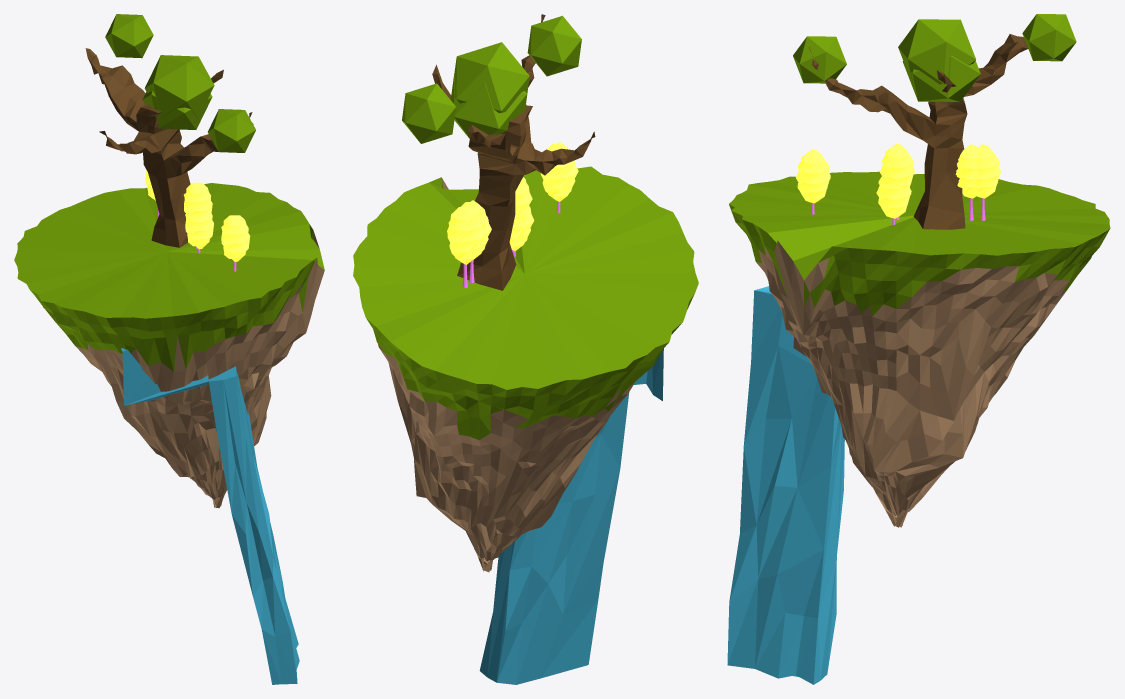
File: scence.fbx
3 views of the same model, side by side, from view 1: azimuth 30°, elevation 25°; view 2: azimuth 150°, elevation 25°; view 3: azimuth 270°, elevation 25° (orthographic). The views are drawn at different scales.
Visible parts, largest first — view 1: Cone, Xascata, Cube, Platonic_3, Platonic_2, Platonic_1, ALbero_15, Platonic_4, ALbero_19, ALbero_16; view 2: Cone, Xascata, Cube, Platonic_3, Platonic_2, Platonic_1, Platonic_4, ALbero_18, ALbero_15, ALbero_19, ALbero_17; view 3: Cone, Xascata, Cube, Platonic_3, Platonic_2, Platonic_1, Platonic_4, ALbero_15, ALbero_16, ALbero_18, ALbero_17, ALbero_19.
Boxes of the visible parts, x1,y1,x2,y2 form: Cone: [14, 183, 324, 508]; Xascata: [114, 348, 299, 684]; Cube: [85, 48, 253, 247]; Platonic_3: [144, 55, 214, 118]; Platonic_2: [105, 14, 153, 58]; Platonic_1: [208, 109, 255, 152]; ALbero_15: [221, 215, 250, 271]; Platonic_4: [142, 90, 212, 129]; ALbero_19: [185, 210, 213, 253]; ALbero_16: [184, 182, 212, 248]; Cone: [353, 166, 698, 572]; Xascata: [479, 348, 663, 684]; Cube: [432, 14, 595, 290]; Platonic_3: [454, 42, 529, 113]; Platonic_2: [402, 83, 455, 143]; Platonic_1: [527, 15, 581, 76]; Platonic_4: [451, 74, 526, 138]; ALbero_18: [447, 205, 485, 287]; ALbero_15: [540, 142, 578, 213]; ALbero_19: [509, 206, 534, 256]; ALbero_17: [461, 200, 491, 283]; Cone: [729, 171, 1110, 527]; Xascata: [727, 286, 844, 684]; Cube: [809, 34, 1028, 229]; Platonic_3: [898, 19, 975, 86]; Platonic_2: [1022, 14, 1076, 61]; Platonic_1: [793, 36, 846, 83]; Platonic_4: [902, 55, 980, 101]; ALbero_15: [795, 149, 830, 214]; ALbero_16: [880, 143, 914, 220]; ALbero_18: [975, 144, 1000, 220]; ALbero_17: [955, 144, 979, 220]; ALbero_19: [876, 175, 911, 224].
Bounding box in the file's own units: 4810 × 11011 × 5960.
